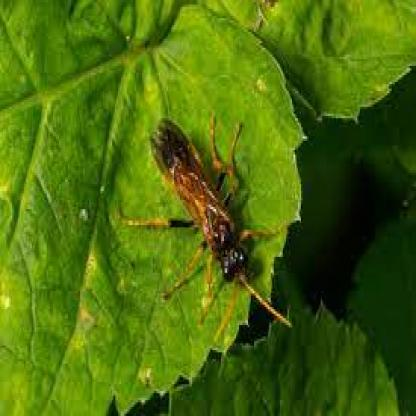sawfly: (128, 115, 300, 345)
